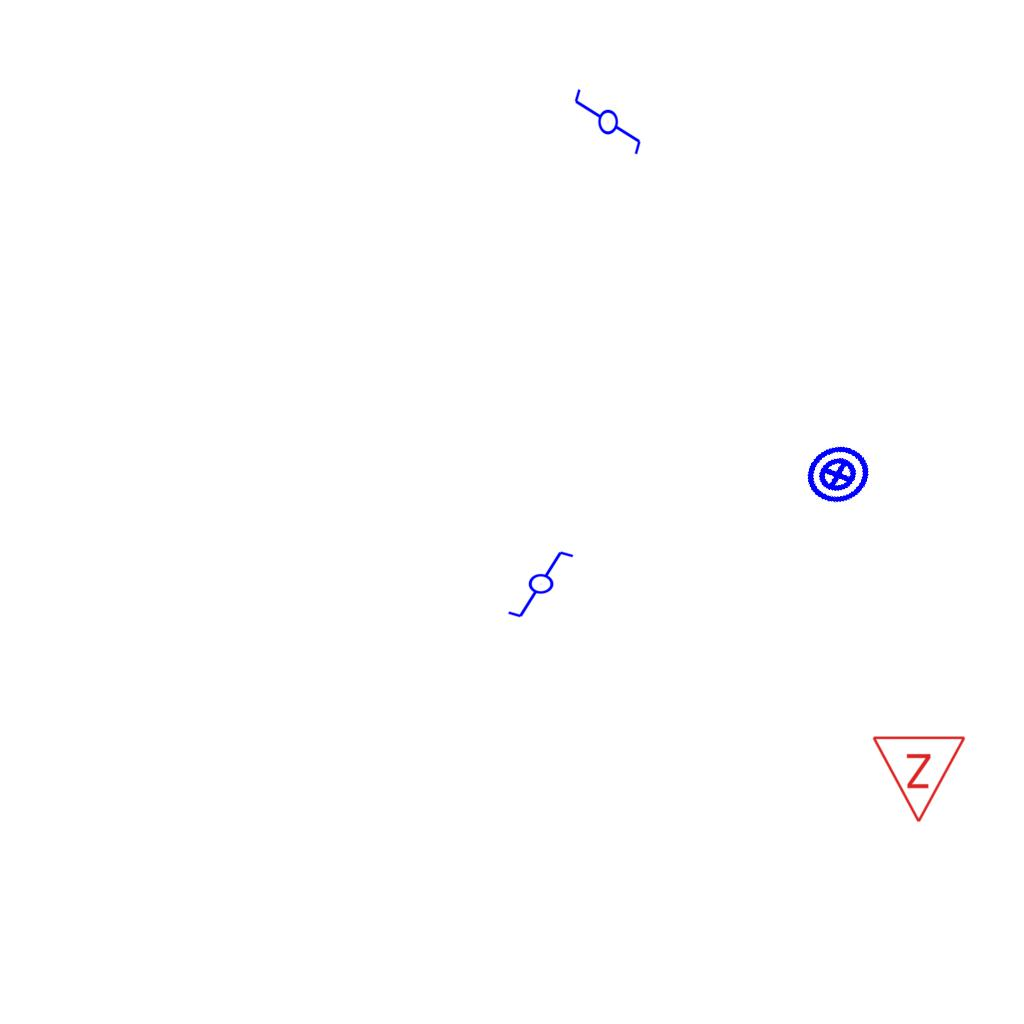Taster_beleuchtet: (795, 432, 881, 518)
Wechselschalter: (506, 549, 584, 621), (571, 87, 643, 165)
Zimmersignalleuchte: (871, 729, 969, 829)
